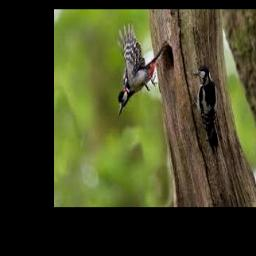Woodpecker: (118, 23, 164, 114), (192, 65, 218, 152)
